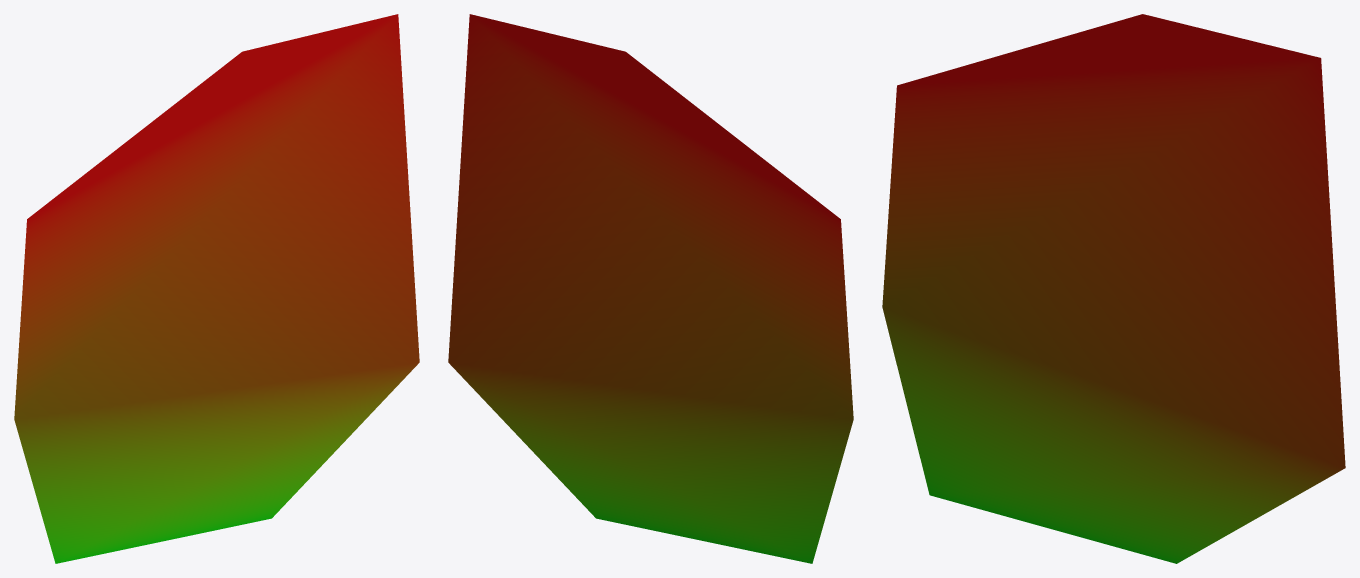
The model's file is Rubber Bush_LOD7_Var1_xffhfekia.fbx.
The picture shows the model from 3 angles, left to right: view 1: azimuth 30°, elevation 25°; view 2: azimuth 150°, elevation 25°; view 3: azimuth 330°, elevation 25°; orthographic projection. The views are drawn at different scales.
Parts seen in each view (by area): view 1: _1c86_Var1_LOD7; view 2: _1c86_Var1_LOD7; view 3: _1c86_Var1_LOD7.
Part boxes in pixels (left/top/right/bottom): _1c86_Var1_LOD7: left=14, top=14, right=419, bottom=563; _1c86_Var1_LOD7: left=448, top=14, right=853, bottom=563; _1c86_Var1_LOD7: left=882, top=14, right=1345, bottom=563.
Bounding box in the file's own units: 77.07 × 86.11 × 1.36e-05.
